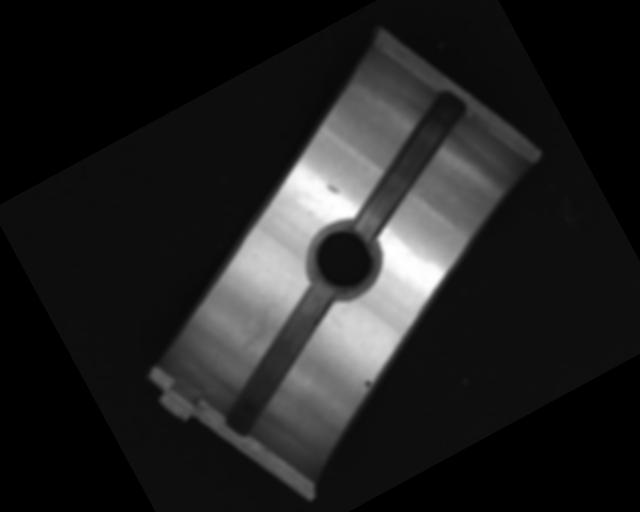blot: (360, 378, 374, 391)
bruise: (326, 180, 341, 197)
gap: (318, 84, 498, 242), (190, 278, 369, 435)
hole: (294, 209, 390, 308)
scratch: (212, 287, 300, 375)
